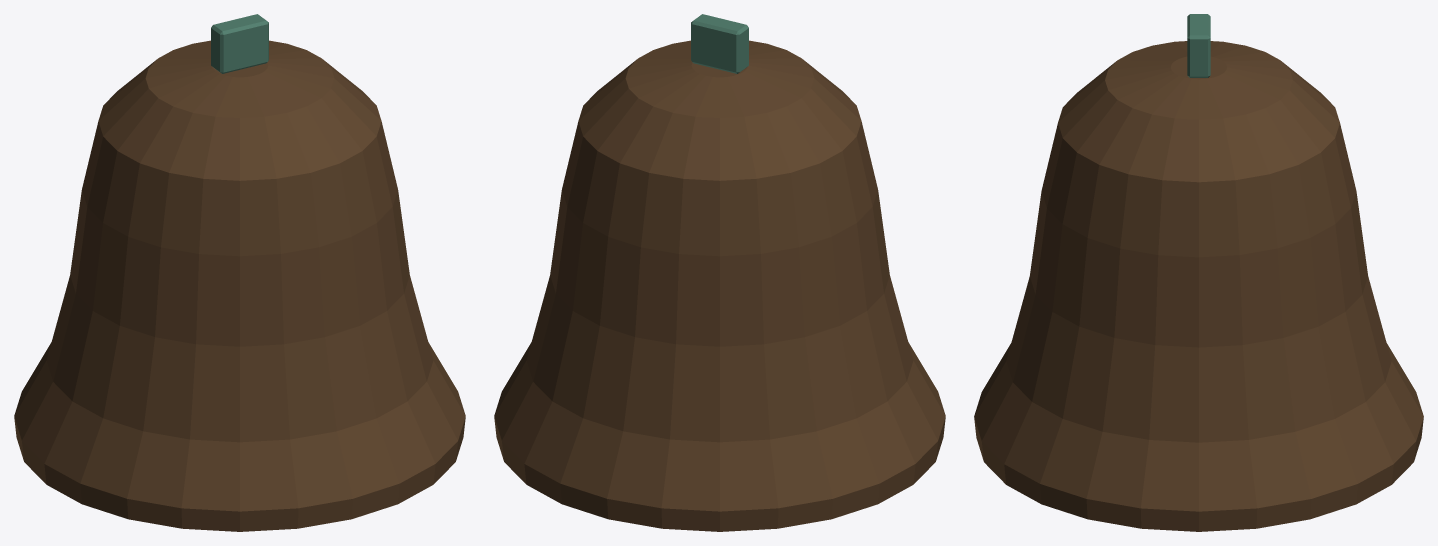
File: Prop_Lab_EchoBell_S00.glb
3 views of the same model, side by side, from view 1: azimuth 30°, elevation 25°; view 2: azimuth 150°, elevation 25°; view 3: azimuth 270°, elevation 25° (orthographic).
Visible parts, largest first — view 1: Prop_Lab_EchoBell_S00; view 2: Prop_Lab_EchoBell_S00; view 3: Prop_Lab_EchoBell_S00.
Boxes of the visible parts, x1,y1,x2,y2 form: Prop_Lab_EchoBell_S00: (14, 14, 465, 531); Prop_Lab_EchoBell_S00: (494, 14, 945, 531); Prop_Lab_EchoBell_S00: (974, 14, 1423, 531).
Size of what is drawn, in the model's own units: 0.888 by 0.9 by 0.888.
